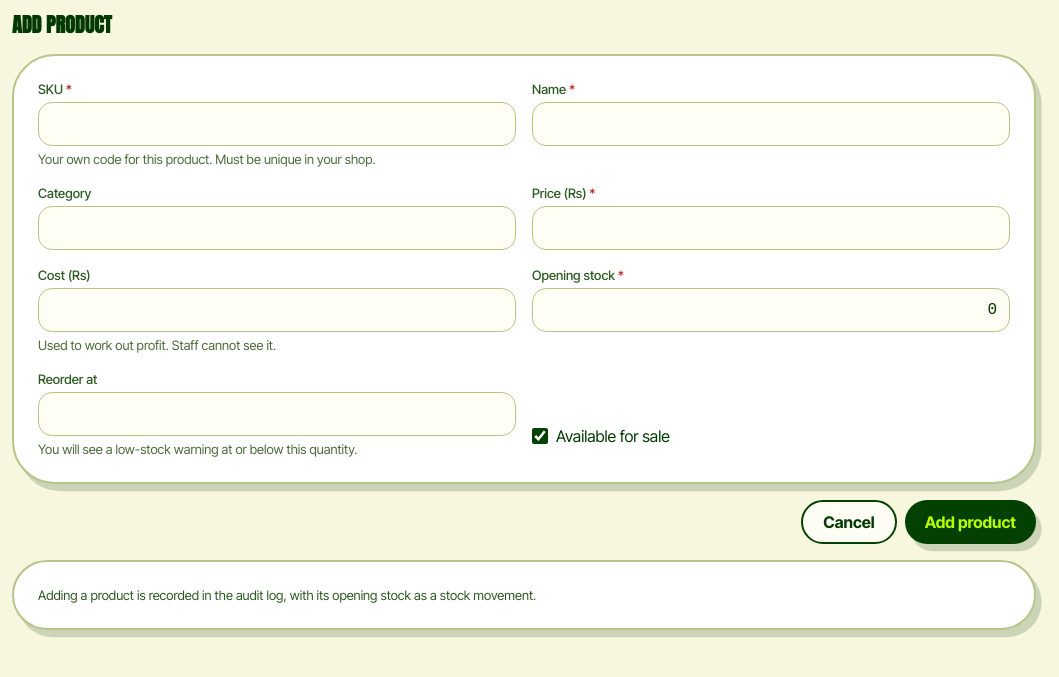
Test case: ProductForm (task 52: validation, errors, double-submit) › shows inline messages under the fields and sends nothing when the input is invalid
What coordinates should you click on to do the following:
click the button "Add product"
I would click on:
 (970, 522)
Its box is x1=905 y1=500 x2=1036 y2=544.
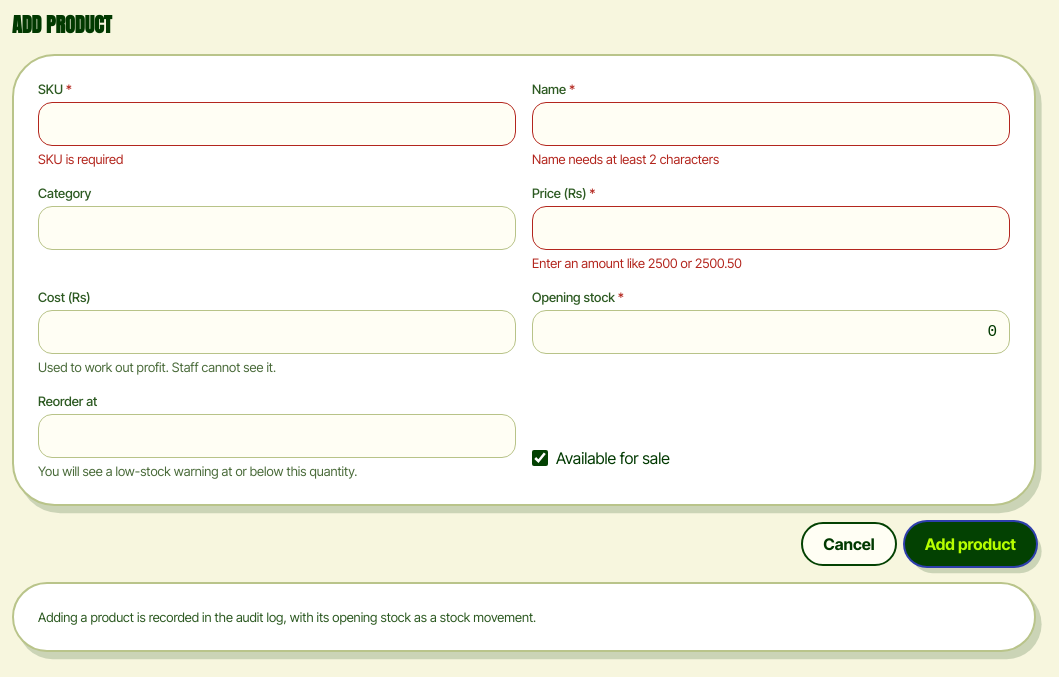
Result: the text "SKU is required" is shown at x1=38 y1=151 x2=123 y2=167
Result: the text "Name needs at least 2 characters" is shown at x1=532 y1=151 x2=719 y2=167
